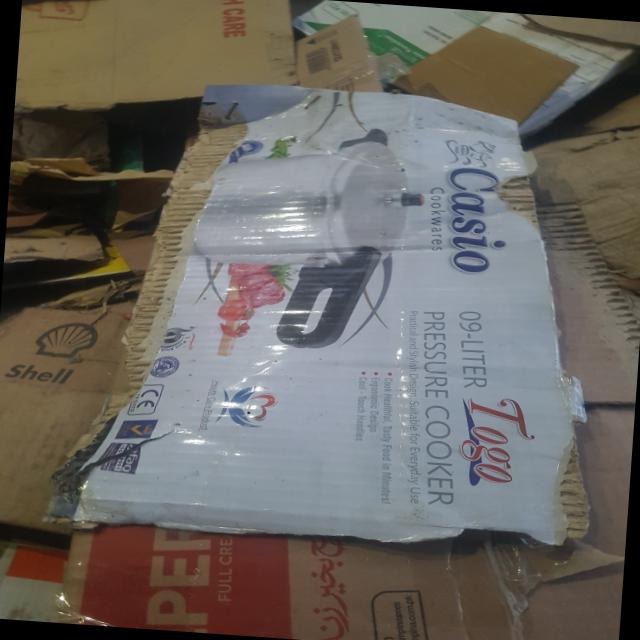electronic: (45, 70, 604, 560)
